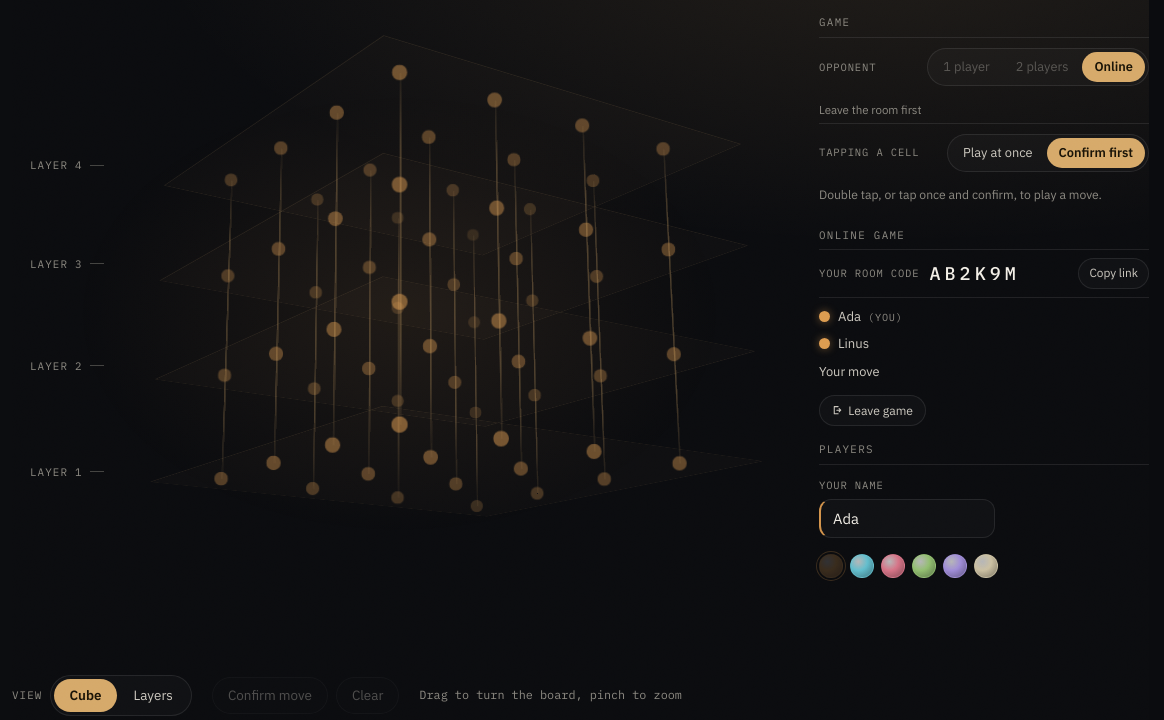
Scenario: TicTacToe — online, confirming each move › drops the aim when the setting goes back to playing at once
(page scrolled)
Click the button named "Layer 1, column 1, row 1". click: (221, 479)
box: x1=188 y1=440 x2=255 y2=518
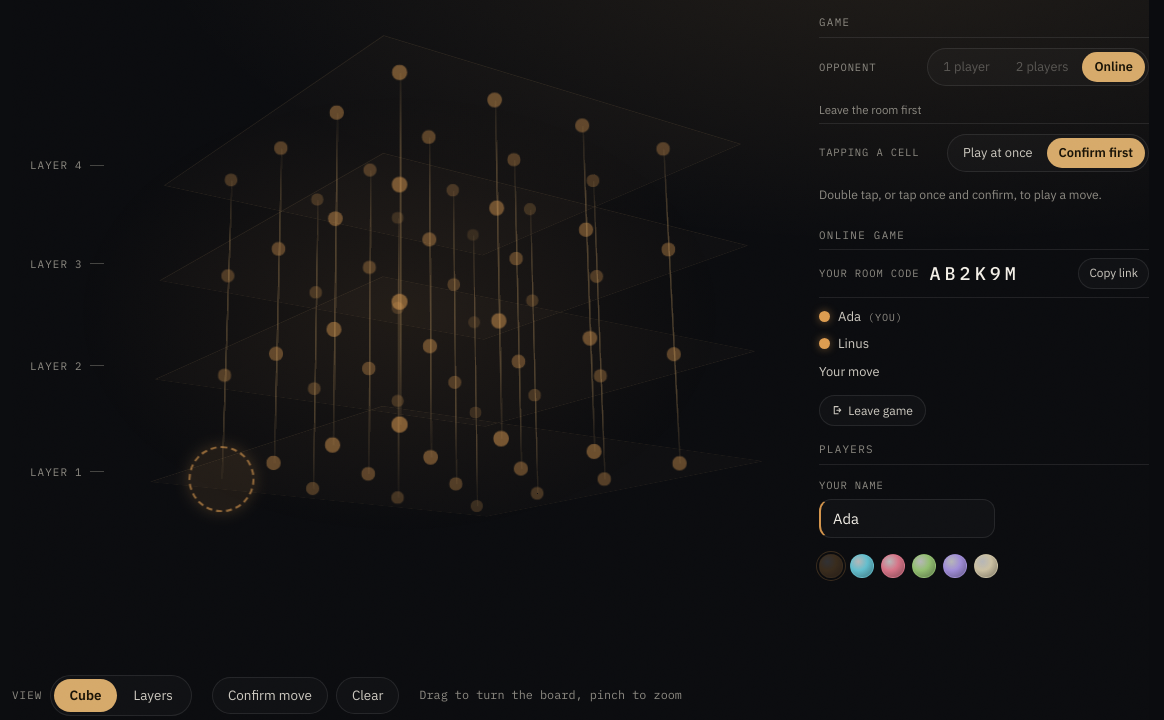
Click the radio button labelled "Play at once". click: (998, 153)
box: x1=951 y1=138 x2=1045 y2=168
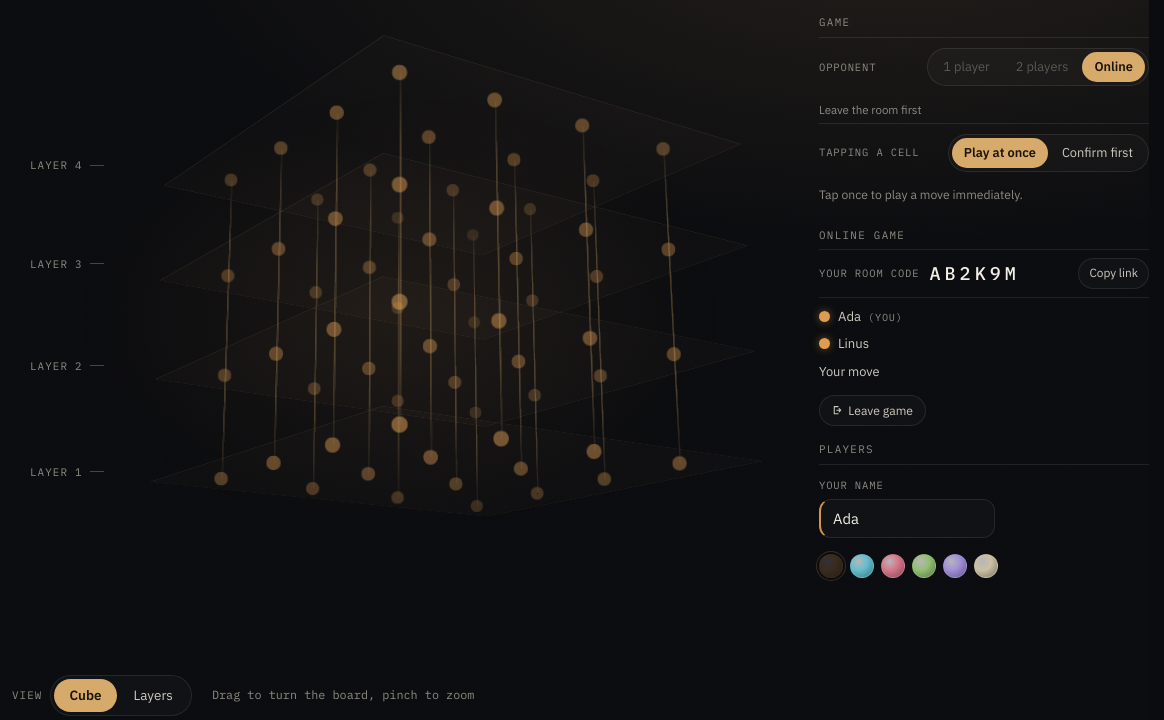
Expected: the button "Confirm move" is gone
